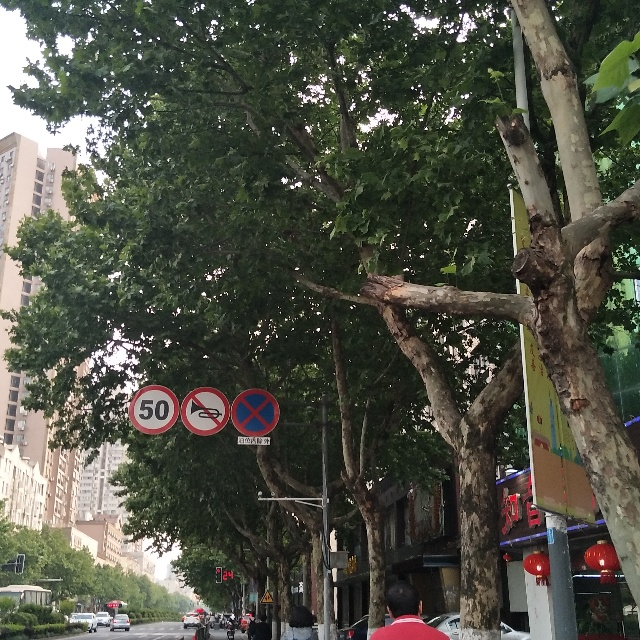nohonk: (185, 389, 226, 430)
stop: (235, 394, 277, 436)
